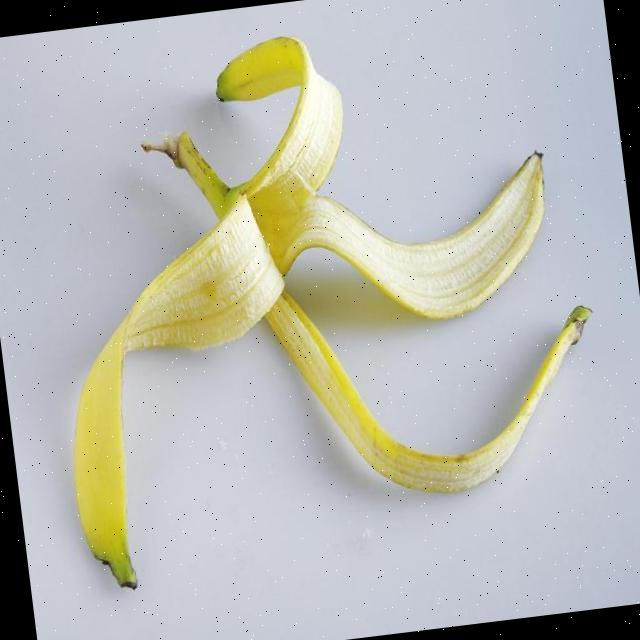banana-peel: (21, 1, 618, 594)
